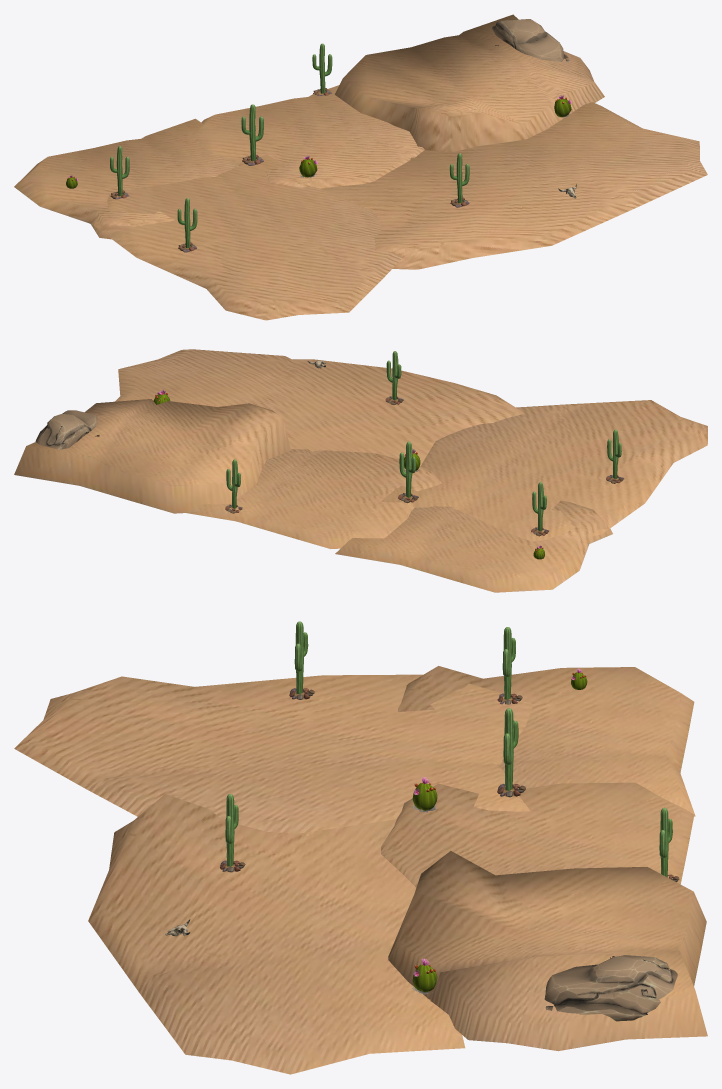
File: desierto aml333 actualizado.glb
The picture shows the model from 3 angles, top to bottom: view 1: azimuth 30°, elevation 25°; view 2: azimuth 150°, elevation 25°; view 3: azimuth 270°, elevation 25°; orthographic projection. The views are drawn at different scales.
Visible parts, largest first — view 1: node_id50, node_id52, node_id42, node_id30, node_id44, node_id110, node_id68, node_id70, node_id72, node_id58, node_id74; view 2: node_id52, node_id50, node_id42, node_id30, node_id44, node_id110, node_id68, node_id72, node_id58, node_id70, node_id74; view 3: node_id50, node_id52, node_id42, node_id30, node_id44, node_id110, node_id68, node_id72, node_id70, node_id58, node_id74.
Boxes of the visible parts, left/top/right/bottom form: node_id50: left=320, top=102, right=707, bottom=269; node_id52: left=94, top=154, right=402, bottom=320; node_id42: left=335, top=14, right=604, bottom=152; node_id30: left=190, top=85, right=424, bottom=188; node_id44: left=14, top=118, right=238, bottom=239; node_id110: left=492, top=19, right=569, bottom=62; node_id68: left=241, top=104, right=263, bottom=165; node_id70: left=177, top=198, right=197, bottom=252; node_id72: left=449, top=153, right=469, bottom=207; node_id58: left=110, top=146, right=129, bottom=199; node_id74: left=312, top=43, right=332, bottom=96; node_id52: left=381, top=400, right=707, bottom=541; node_id50: left=115, top=349, right=523, bottom=466; node_id42: left=14, top=399, right=290, bottom=513; node_id30: left=187, top=449, right=441, bottom=548; node_id44: left=335, top=500, right=612, bottom=592; node_id110: left=35, top=410, right=97, bottom=449; node_id68: left=398, top=441, right=418, bottom=503; node_id72: left=385, top=351, right=403, bottom=404; node_id58: left=531, top=482, right=548, bottom=536; node_id70: left=606, top=429, right=624, bottom=483; node_id74: left=225, top=459, right=242, bottom=513; node_id50: left=88, top=794, right=465, bottom=1074; node_id52: left=14, top=674, right=532, bottom=833; node_id42: left=388, top=851, right=707, bottom=1051; node_id30: left=381, top=782, right=694, bottom=887; node_id44: left=398, top=666, right=695, bottom=816; node_id110: left=544, top=955, right=677, bottom=1021; node_id68: left=497, top=708, right=525, bottom=797; node_id72: left=220, top=794, right=245, bottom=872; node_id70: left=289, top=621, right=314, bottom=699; node_id58: left=497, top=627, right=522, bottom=704; node_id74: left=659, top=807, right=679, bottom=881.
Bounding box in the file's own units: 1.28 × 0.1565 × 0.946.
Materials: 8 (8 with a texture image).
